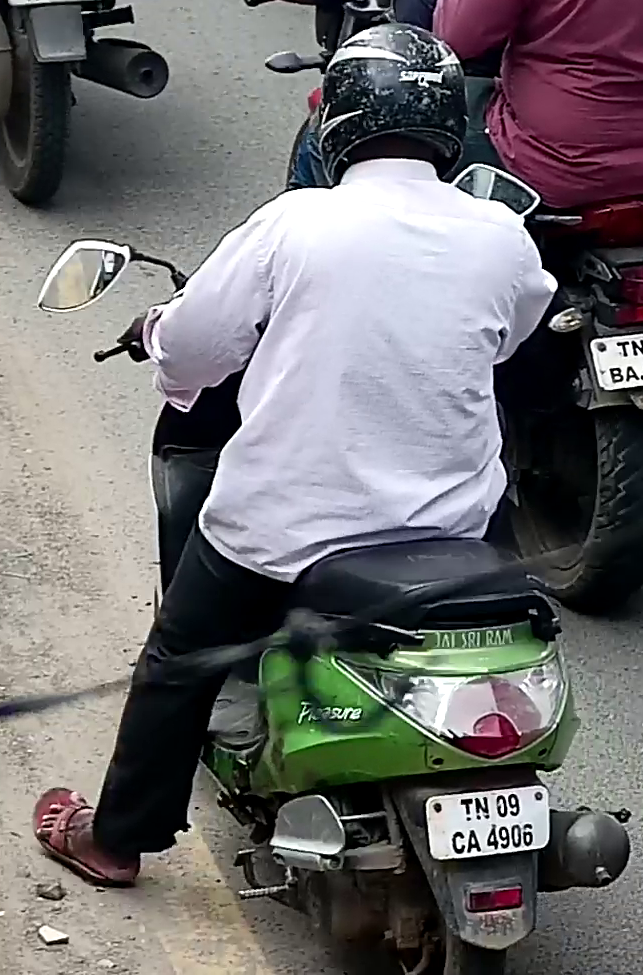0: (495, 794, 508, 818), (510, 823, 522, 848)
4: (486, 827, 498, 850)
6: (522, 822, 533, 847)
9: (508, 793, 521, 817), (498, 826, 510, 849)
A: (467, 829, 482, 854)
C: (451, 830, 466, 854)
N: (474, 796, 490, 820)
P16: (426, 785, 552, 862)
T: (460, 797, 474, 822)
